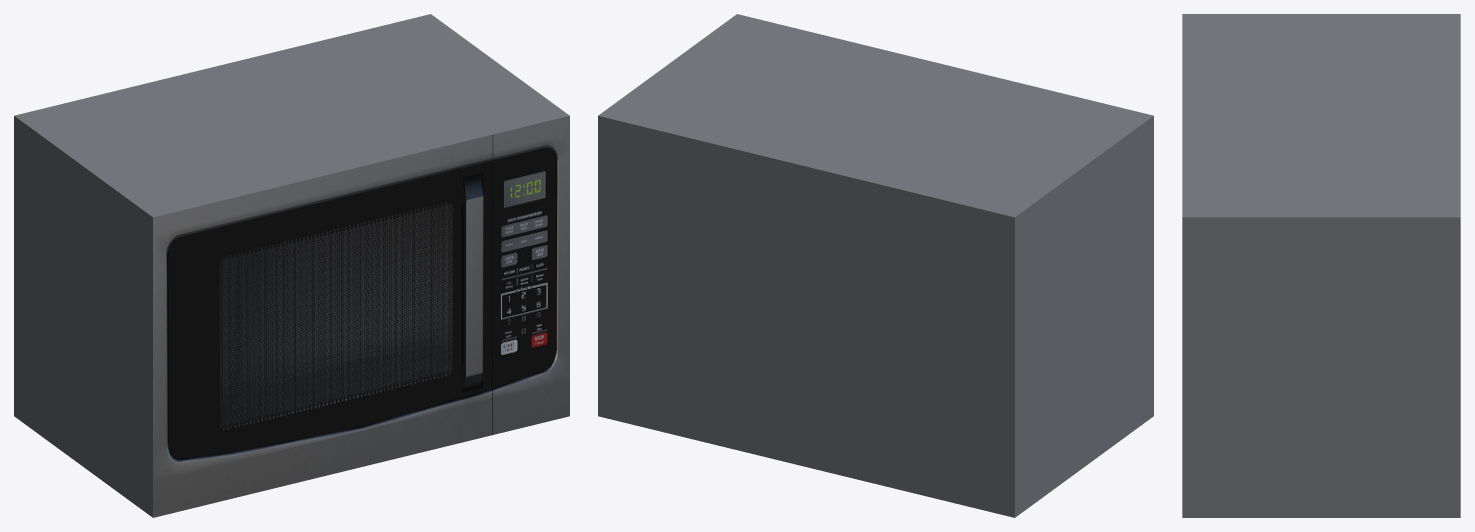
The picture shows the model from 3 angles, left to right: view 1: azimuth 30°, elevation 25°; view 2: azimuth 150°, elevation 25°; view 3: azimuth 270°, elevation 25°; orthographic projection.
Parts seen in each view (by area): view 1: K-90; view 2: K-90; view 3: K-90.
Part boxes in pixels (x1,y1,x2,y2): K-90: [14, 14, 569, 517]; K-90: [598, 14, 1153, 517]; K-90: [1182, 14, 1460, 517].
Bounding box in the file's own units: 45 × 31 × 26.
2 materials, 1 textured.
